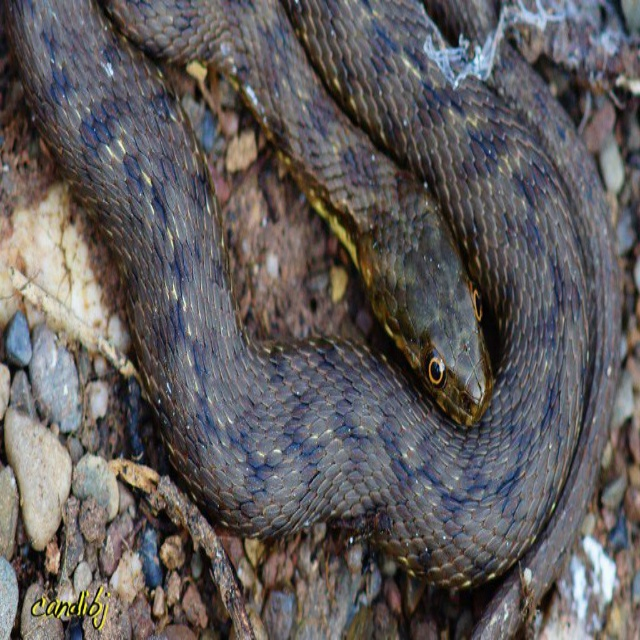Snake: (0, 0, 623, 640)
